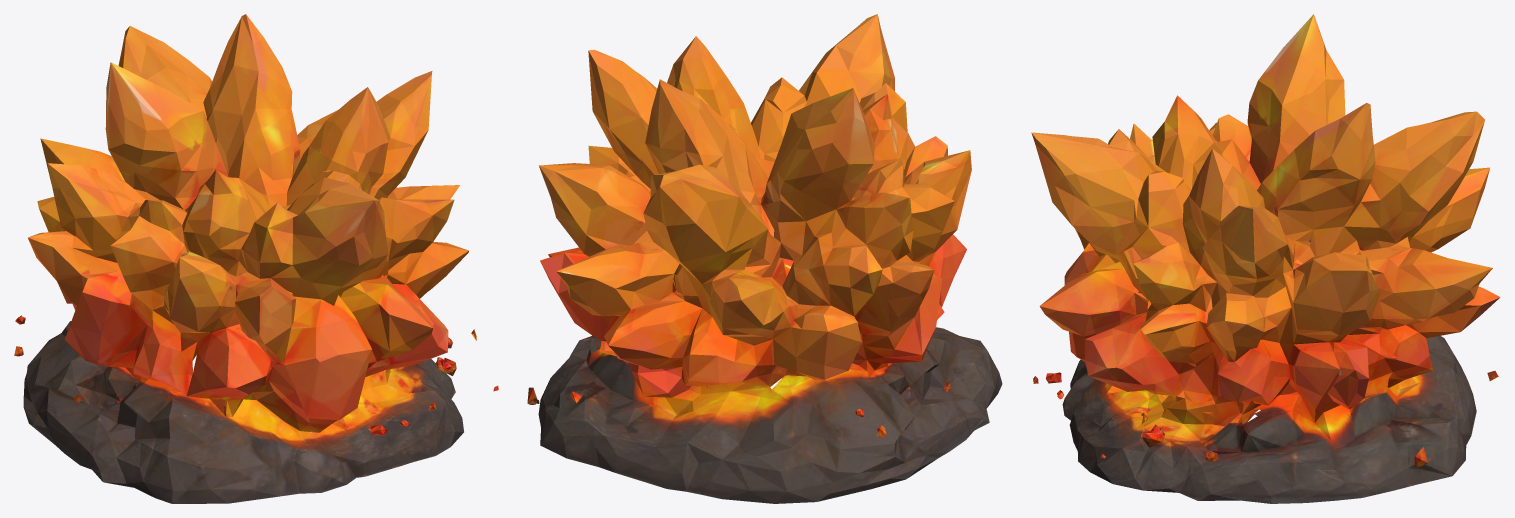
Rendered from Sal de Lava Viva.fbx.
The picture shows the model from 3 angles, left to right: view 1: azimuth 30°, elevation 25°; view 2: azimuth 150°, elevation 25°; view 3: azimuth 270°, elevation 25°; orthographic projection. The views are drawn at different scales.
Parts seen in each view (by area): view 1: temp; view 2: temp; view 3: temp.
Part boxes in pixels (<box>): temp: <box>14,14,498,503</box>; temp: <box>527,14,1002,503</box>; temp: <box>1031,14,1500,503</box>.
Size of the model in its own units: 186 by 165 by 200.
Materials: 1 (1 with a texture image).
